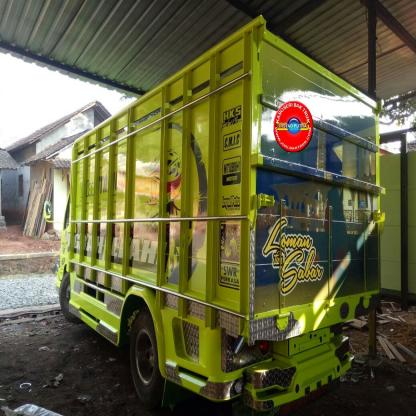truck: (44, 14, 387, 406)
